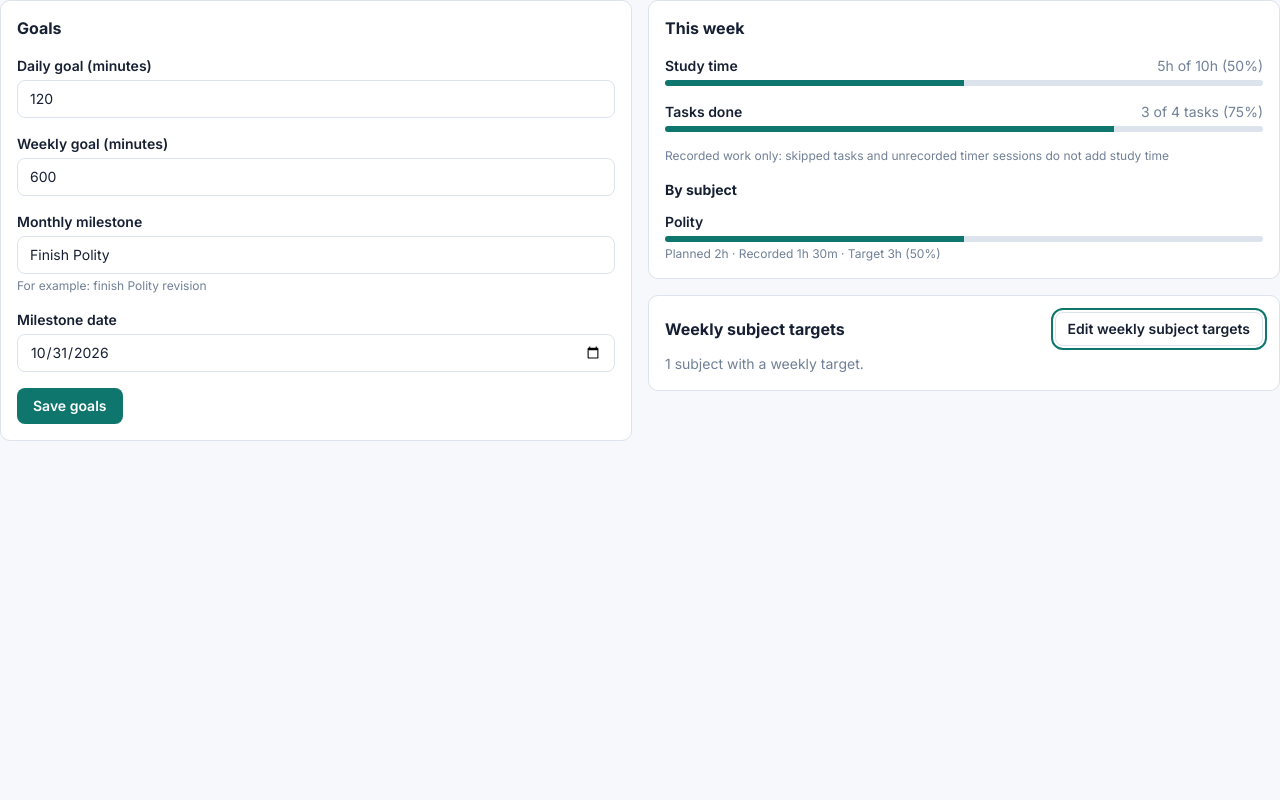
it: GoalsView › edits weekly subject targets
The image size is (1280, 800).
Expected: the field labelled "Weekly target for History (minutes)" is not shown
Click the button "Edit weekly subject targets": [1159, 329] box [1055,312,1263,346]
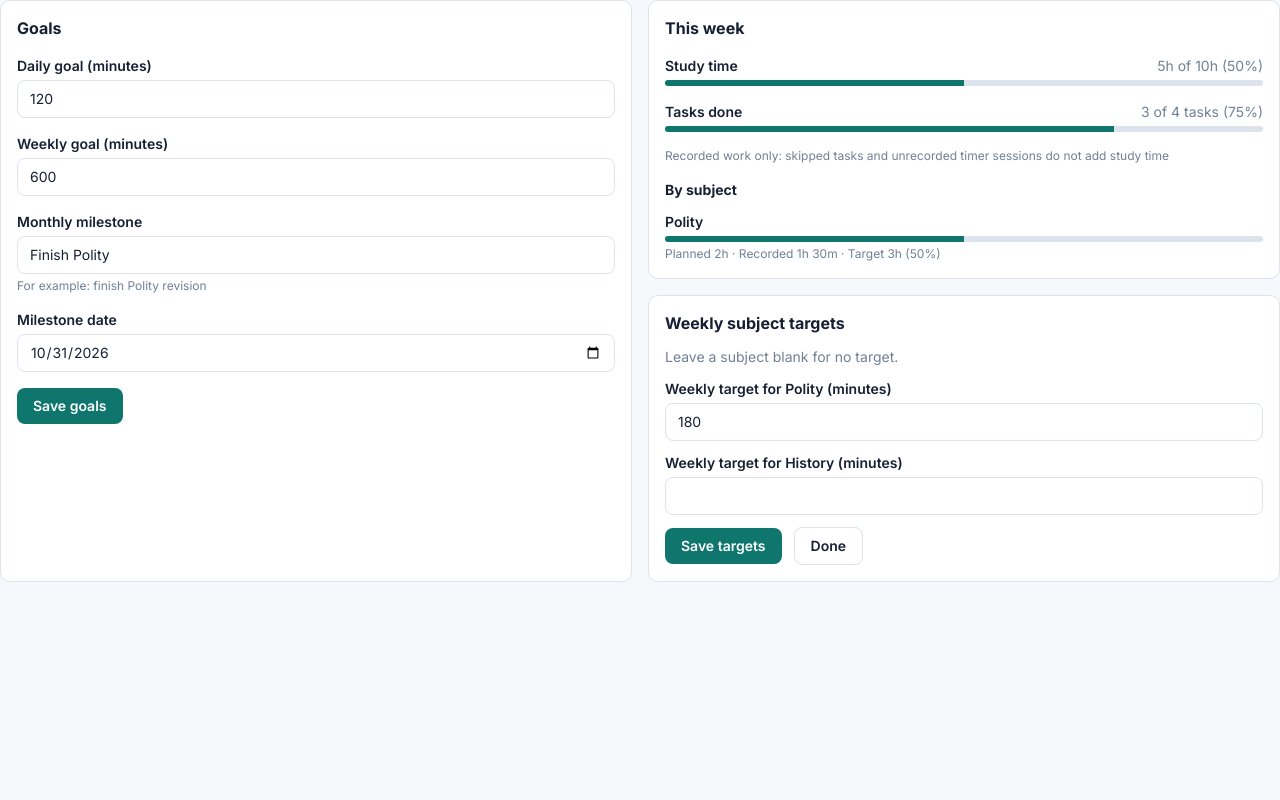
Expected: the number field labelled "Weekly target for Polity (minutes)" holds "180", [665,403,1263,441]
In the number field labelled "Weekly target for History (minutes)": [964, 496] box [665,477,1263,515], type "60"
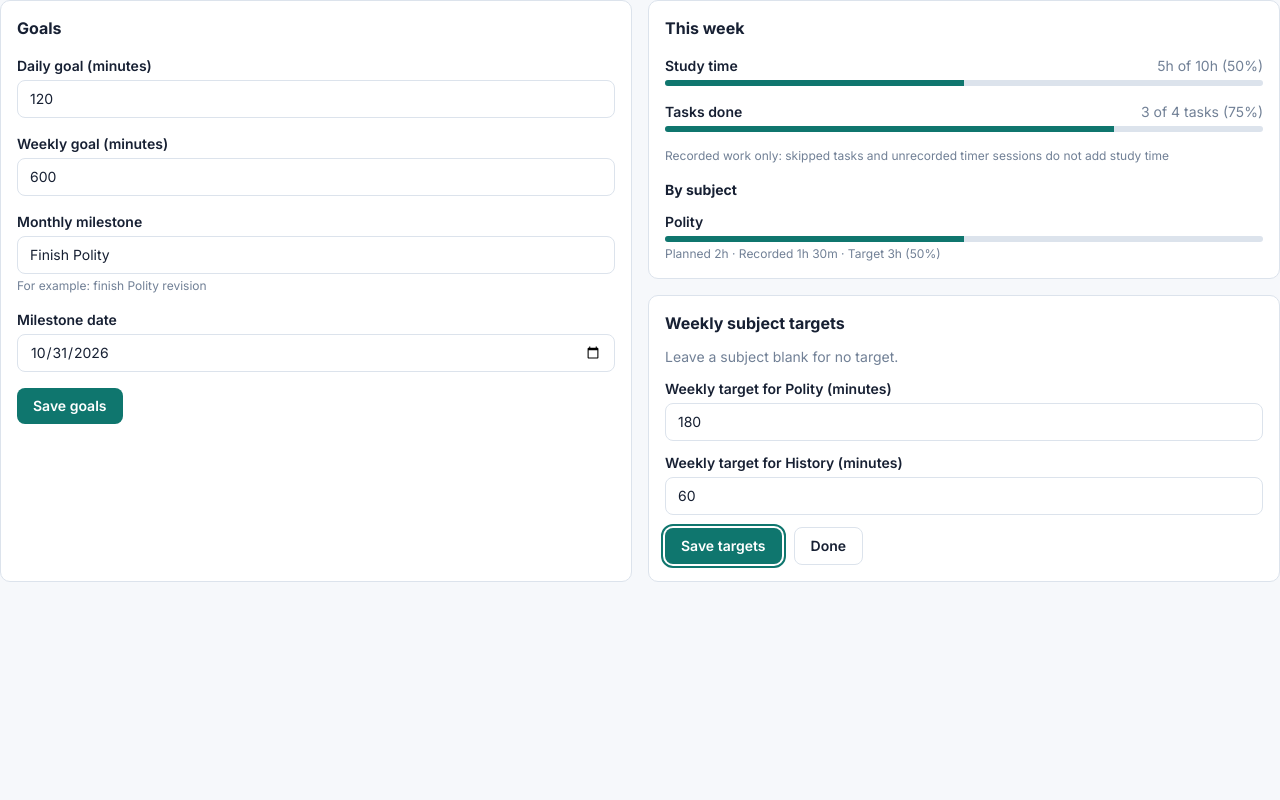
Click the button "Save targets": [723, 546] box [665,528,782,564]
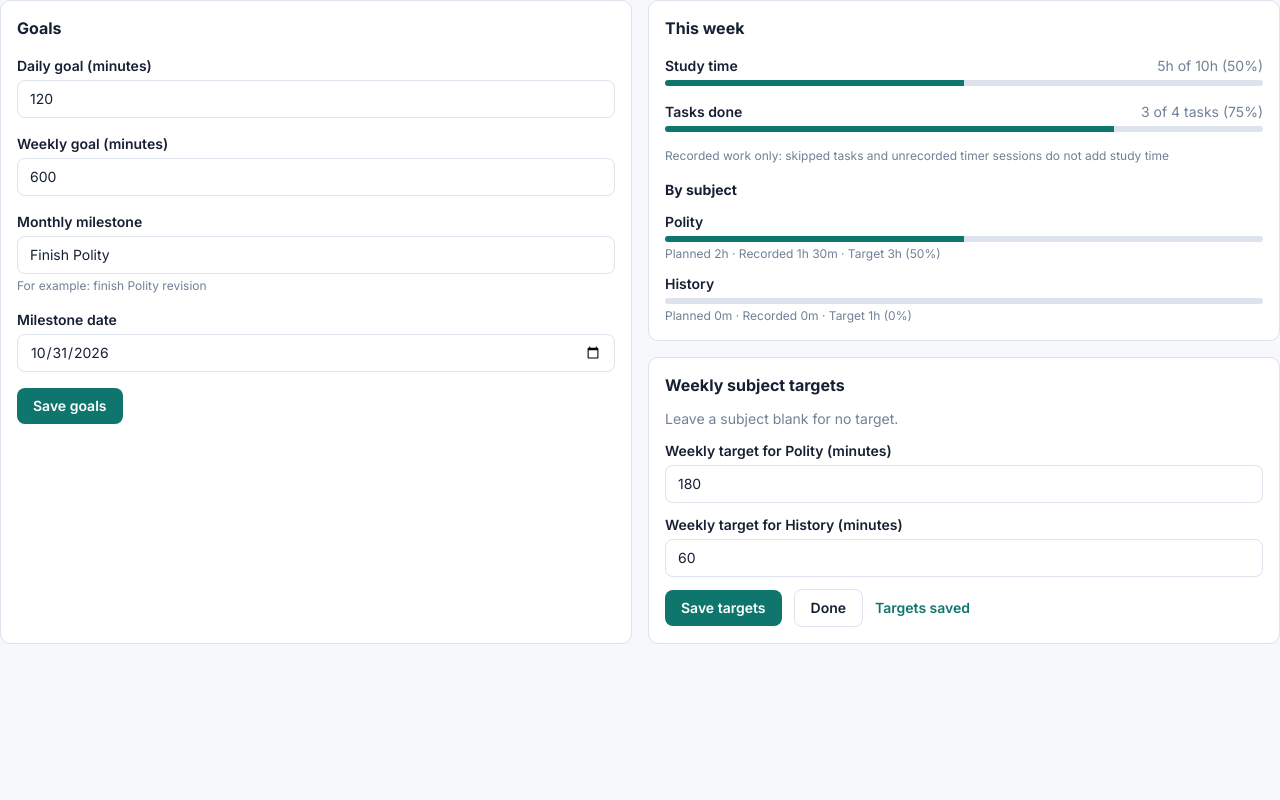
Expected: the text "Targets saved" is shown, [875,598,970,618]
Expected: the progress indicator named "History weekly target" is shown, [665,298,1263,304]
